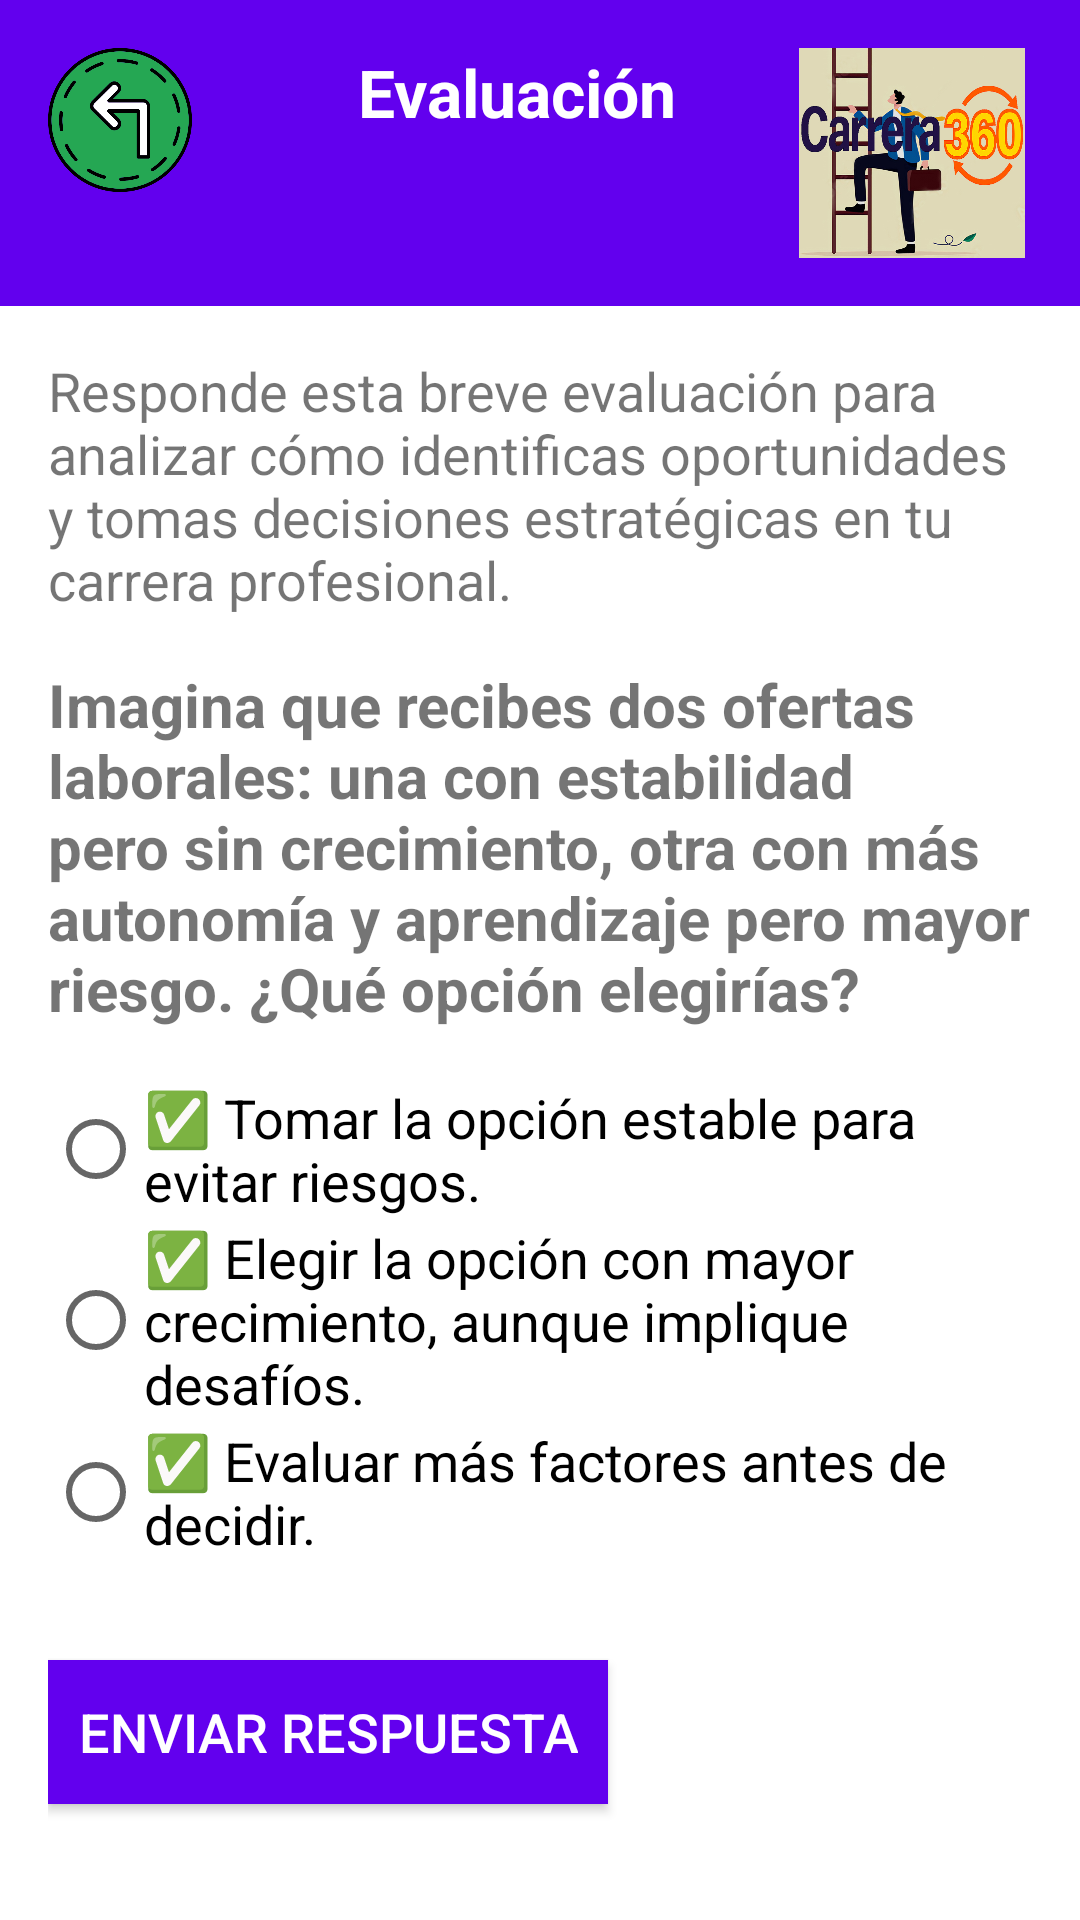

Point at icon controls on the screen. Image size 1080 x 1920, points as [x,y].
Regresar a Inicio: [120,120]
